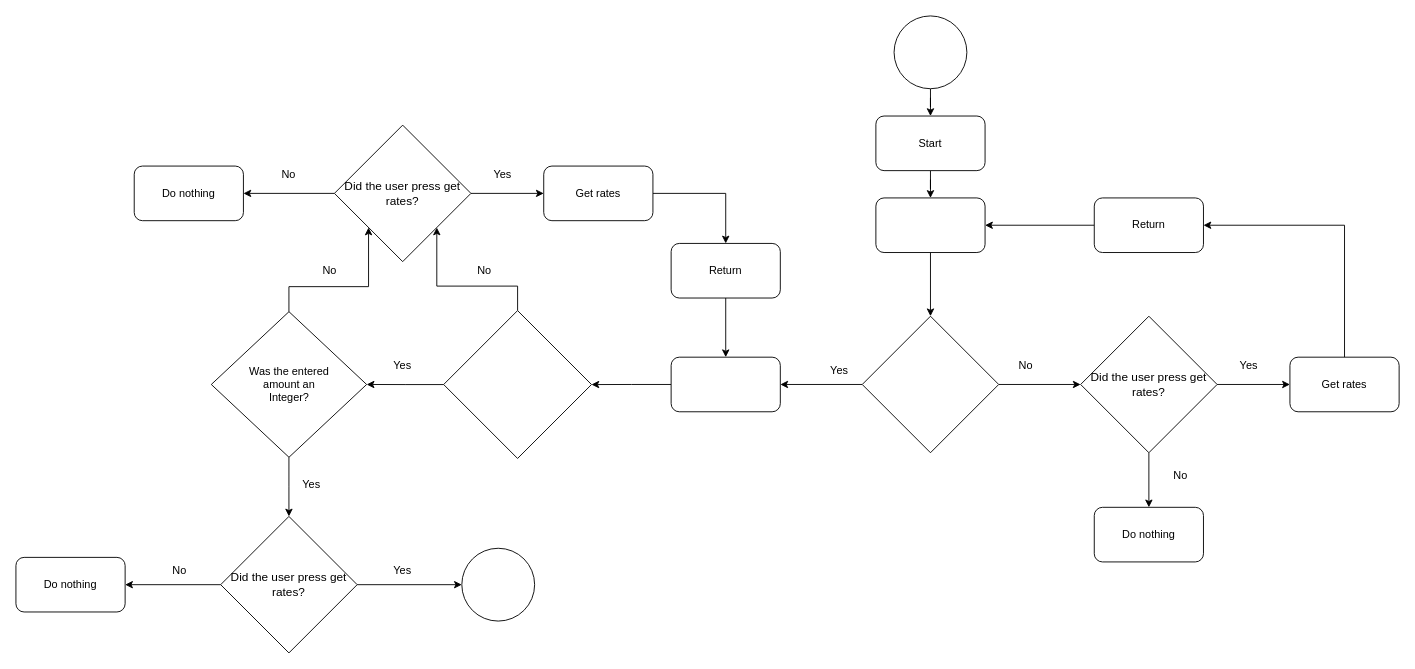
Some shapes in this 1415 by 669 pixel diagram are drawn without their labels. The centre of each missing label's shape, as x and y in pixels:
Add amount: point (725, 384)
Did the user choose a currency?: point (930, 384)
Did the user enter an amount?: point (517, 384)
Select Currency: point (930, 225)
Show results: point (498, 584)
User: point (930, 52)
